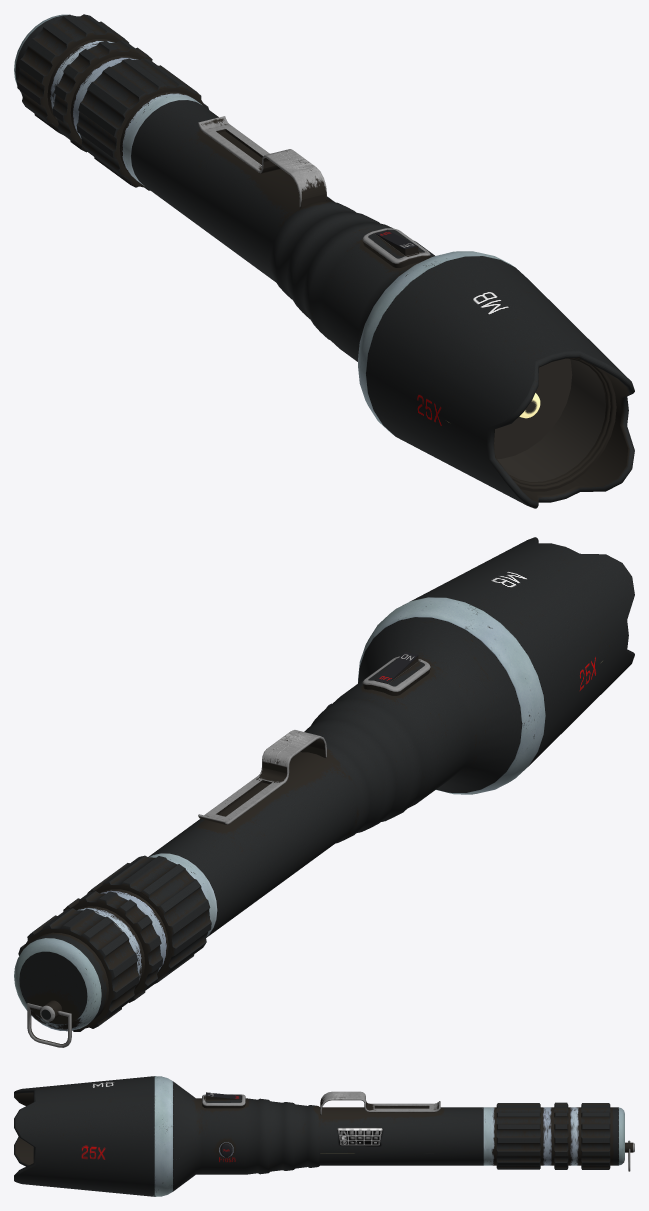
File: flash_light_-_17mb.glb
The picture shows the model from 3 angles, top to bottom: view 1: azimuth 30°, elevation 25°; view 2: azimuth 150°, elevation 25°; view 3: azimuth 270°, elevation 25°; orthographic projection. The views are drawn at different scales.
Parts seen in each view (by area): view 1: base; view 2: base; view 3: base.
Boxes of the visible parts, x1,y1,x2,y2 form: base: [14, 14, 634, 508]; base: [14, 537, 634, 1047]; base: [14, 1076, 634, 1196].
Size of the model in its own units: 2.08 by 2.07 by 10.66.
2 materials, 1 textured.
